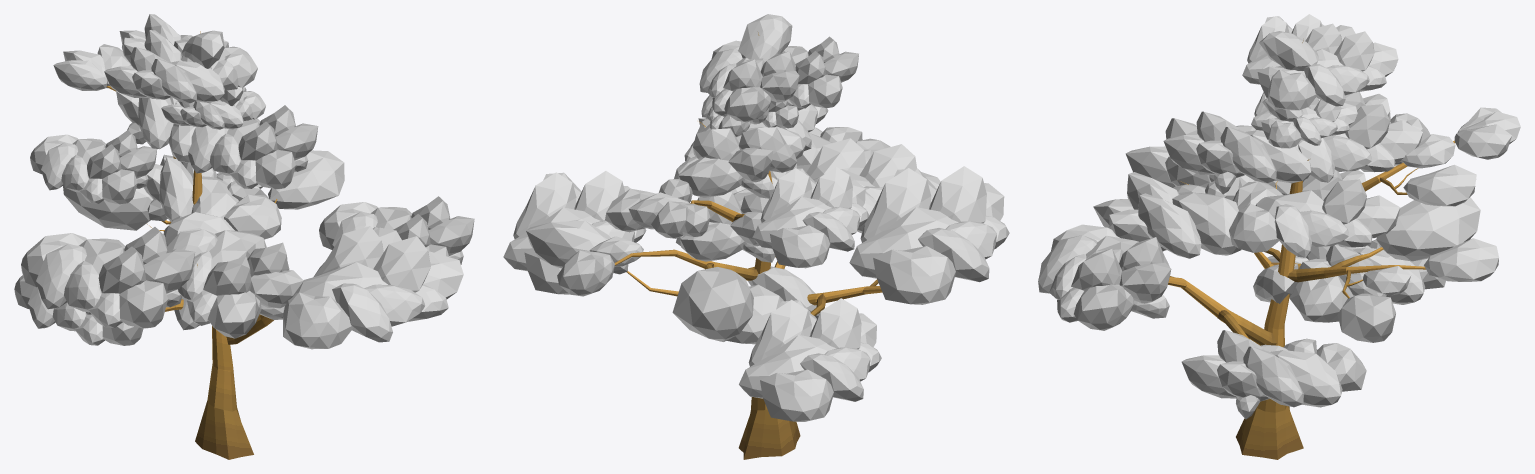
Rendered from ghibli-spworld-tree.glb.
3 renders of one model, left to right at view 1: azimuth 30°, elevation 25°; view 2: azimuth 150°, elevation 25°; view 3: azimuth 270°, elevation 25°, orthographic. The views are drawn at different scales.
Visible parts, largest first — view 1: leafs, trunk; view 2: leafs, trunk; view 3: leafs, trunk.
Boxes of the visible parts, <box> form: leafs: <box>14,14,474,349</box>; trunk: <box>106,31,277,459</box>; leafs: <box>503,14,1009,421</box>; trunk: <box>614,32,882,459</box>; leafs: <box>1038,14,1520,419</box>; trunk: <box>1168,40,1455,459</box>.
Size of the model in its own units: 30.71 by 28.73 by 30.61.
Materials: 2 (2 with a texture image).
